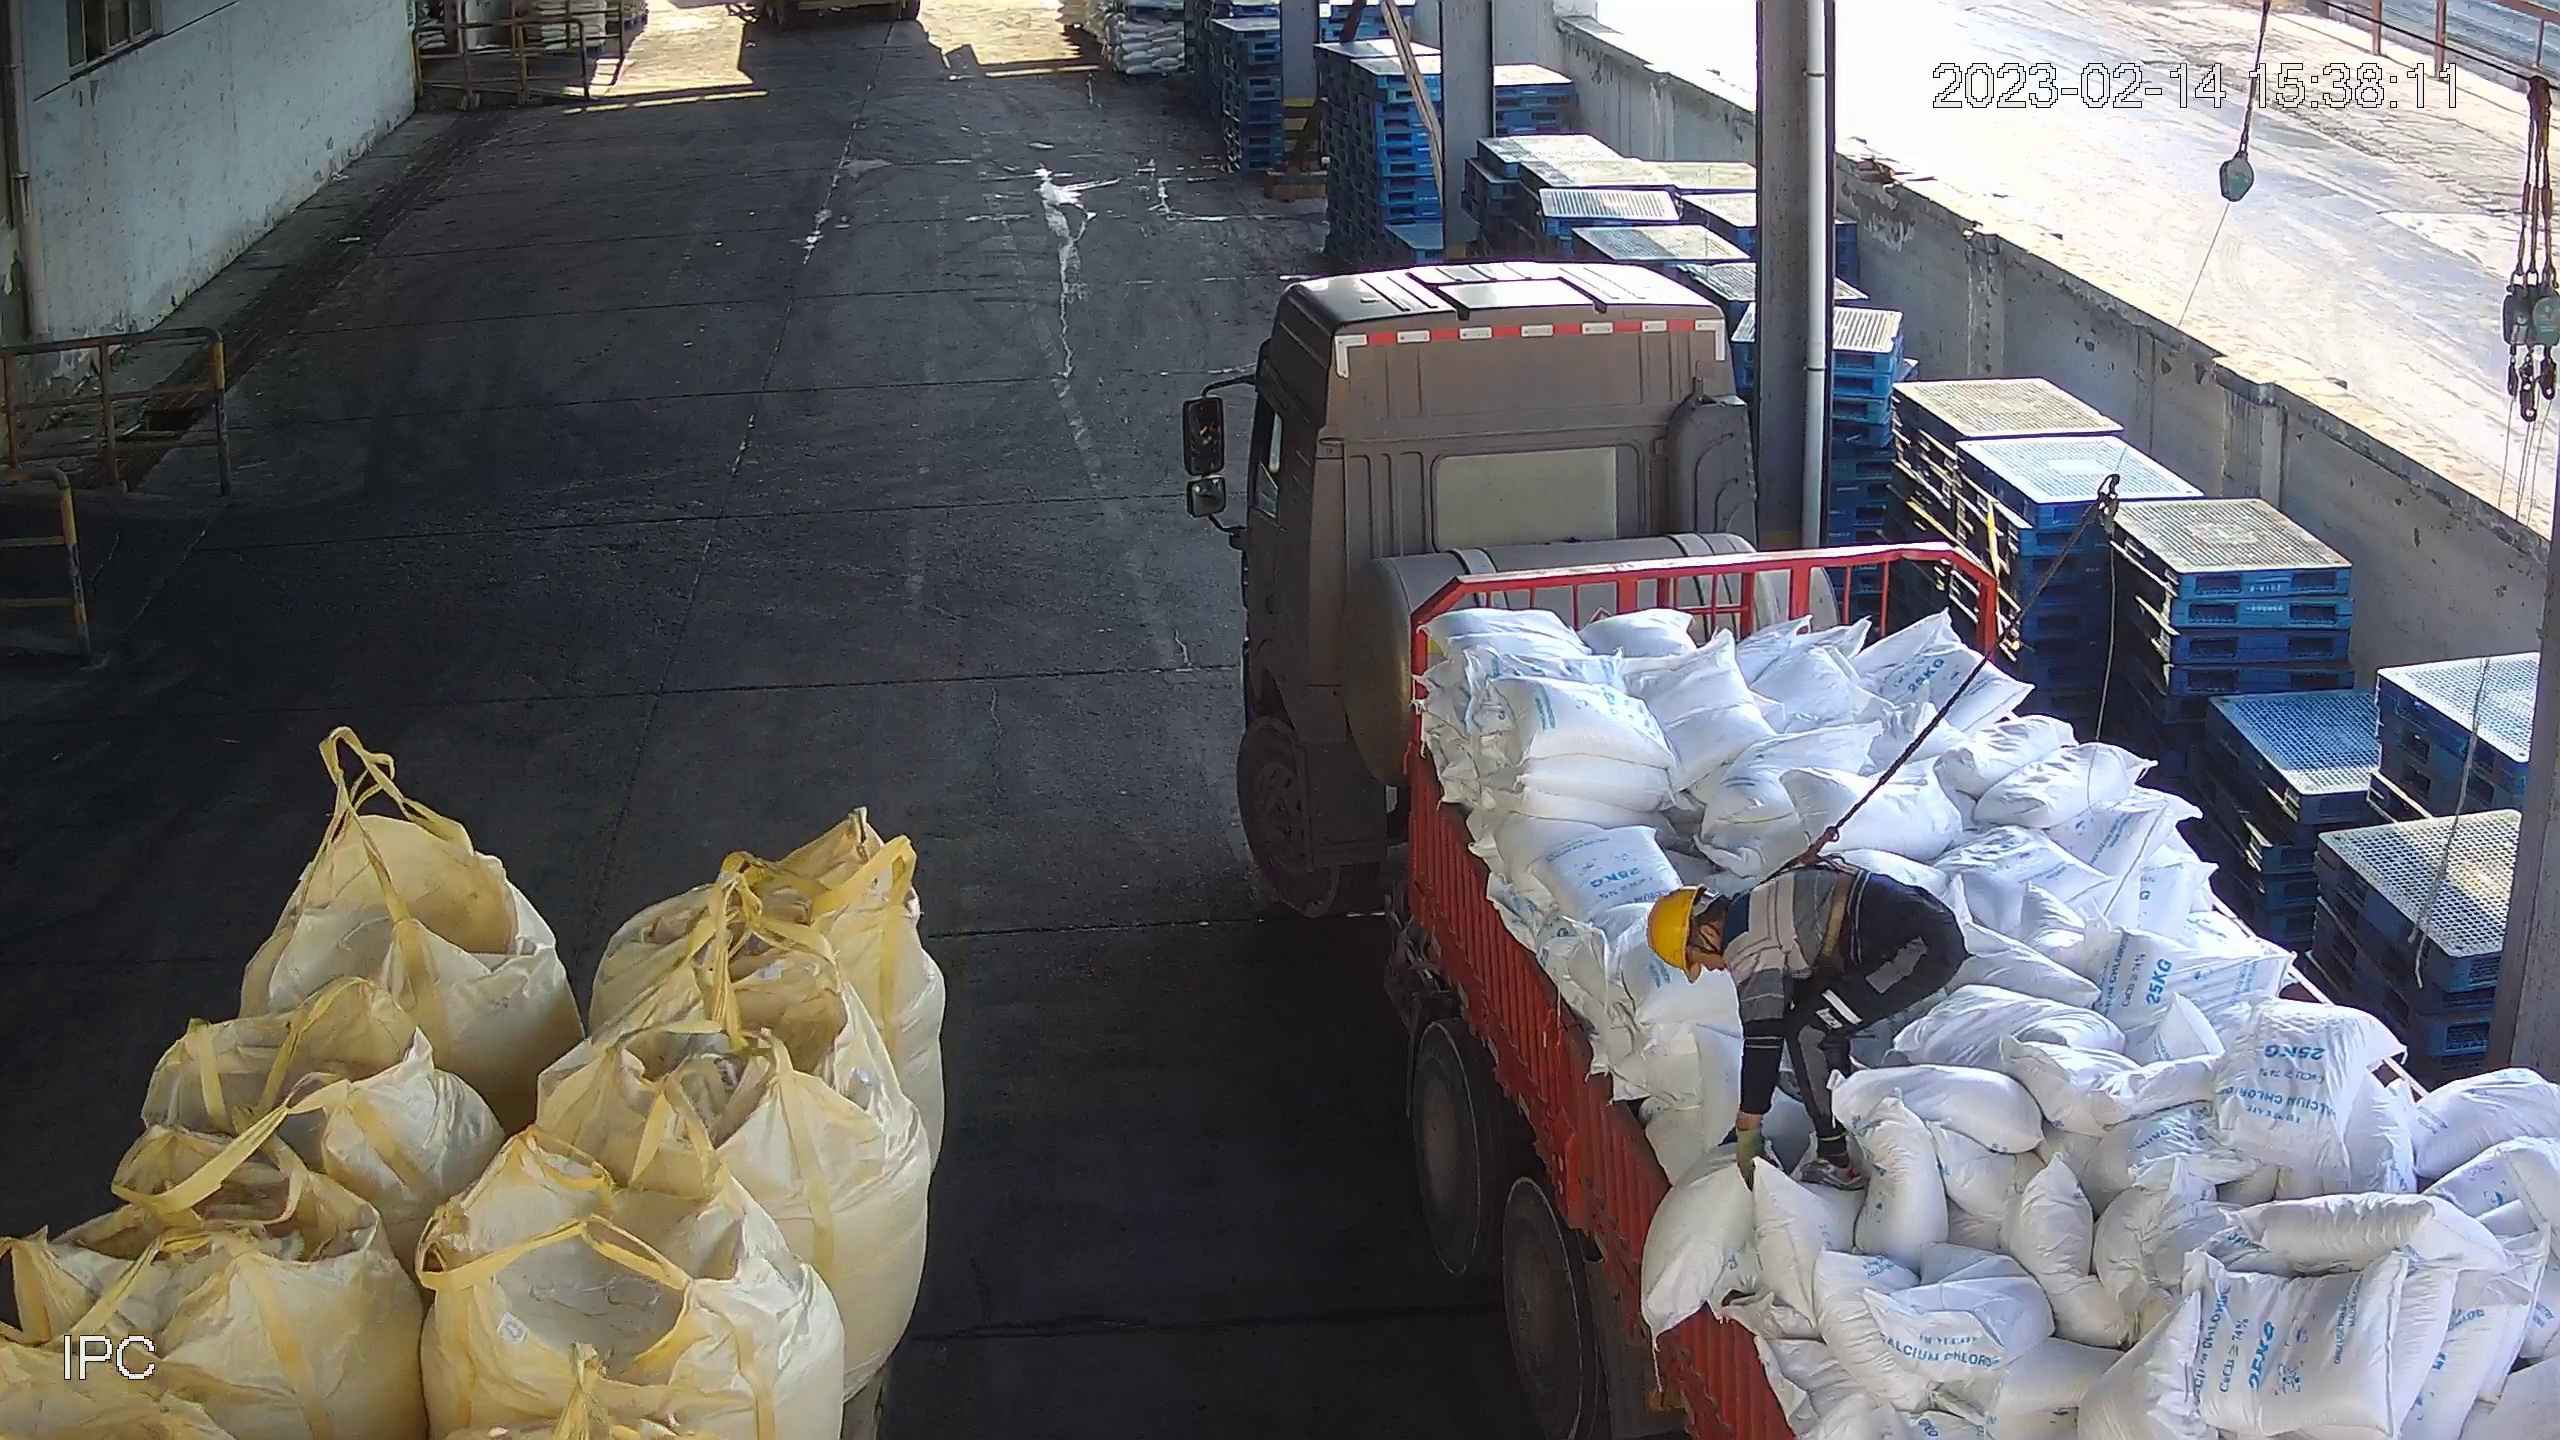belt: (1722, 840, 1846, 886)
head: (1636, 858, 1827, 1010)
helmet: (1646, 882, 1729, 991)
people: (1642, 860, 1953, 1188)
truck: (1186, 275, 2560, 1440)
